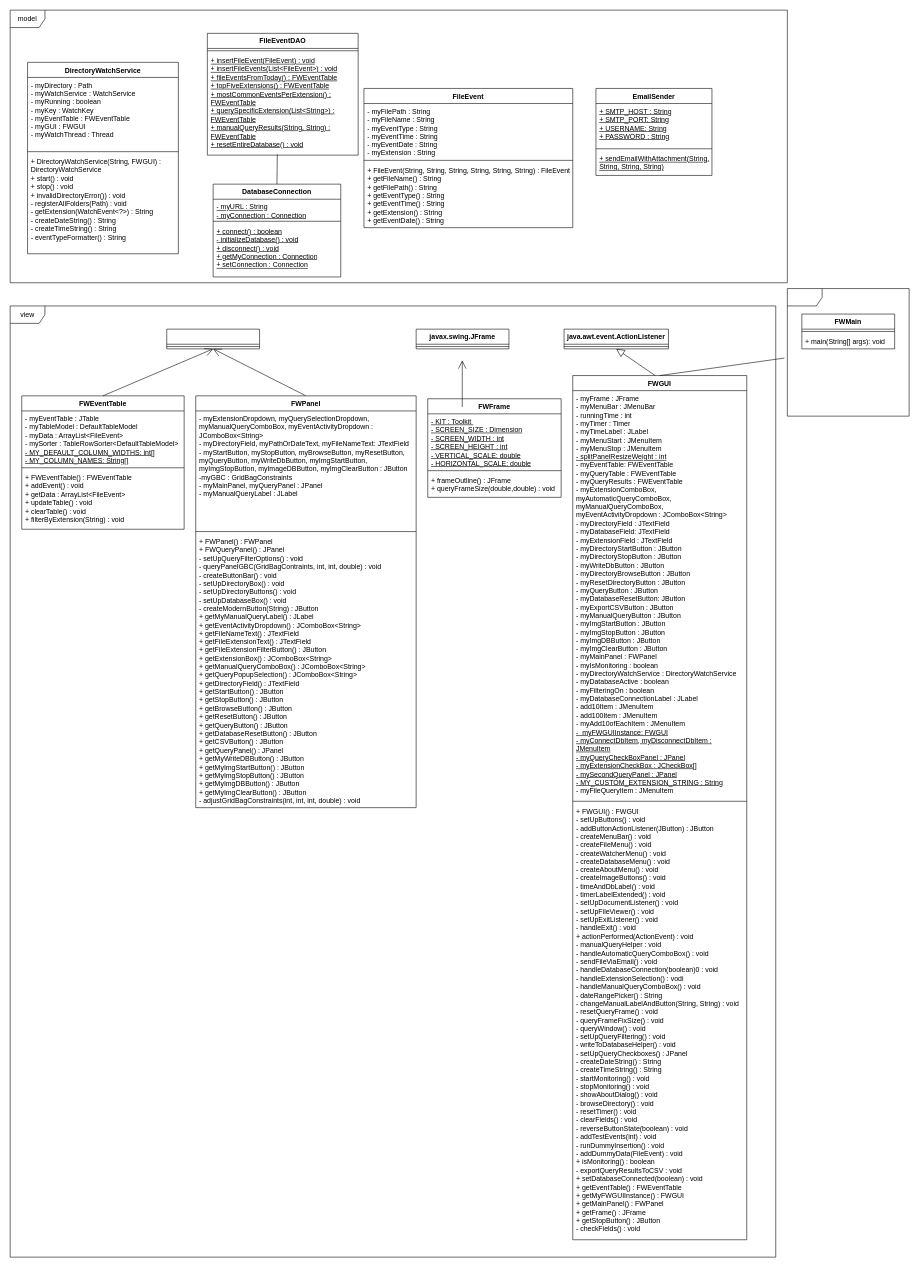
This 919x1267 diagram has some shape labels left out. Here are the shapes that lost their labels. From the top down, the centre of each, then its label:
(x=213, y=339): javax.swing.JPanel
(x=848, y=352): controller
